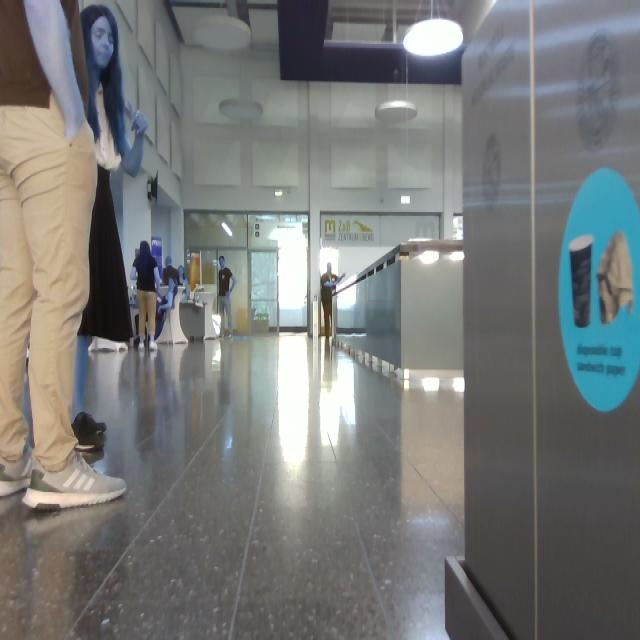door: (186, 212, 307, 334), (250, 252, 278, 332)
light bulb: (192, 14, 250, 52), (570, 236, 591, 328), (376, 101, 415, 125), (220, 100, 262, 122), (132, 110, 149, 137), (419, 250, 440, 265), (422, 377, 440, 392), (453, 377, 464, 393)
person: (1, 1, 126, 508), (79, 6, 148, 344), (132, 242, 160, 349), (220, 257, 236, 336), (321, 264, 337, 338)
tiled floor: (1, 336, 508, 640)
trash bin: (464, 1, 640, 640)
